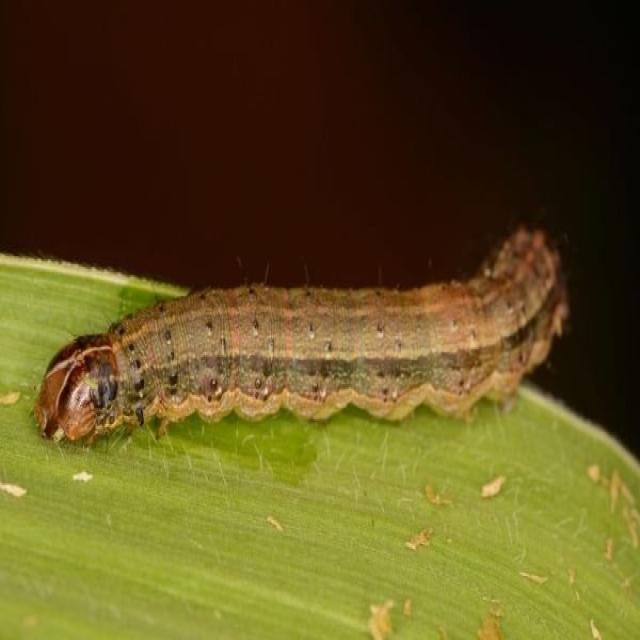worm: (33, 222, 572, 452)
